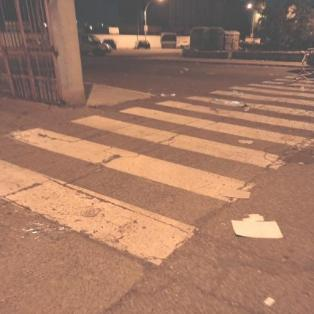Paso de Cebra: (0, 112, 297, 206)
